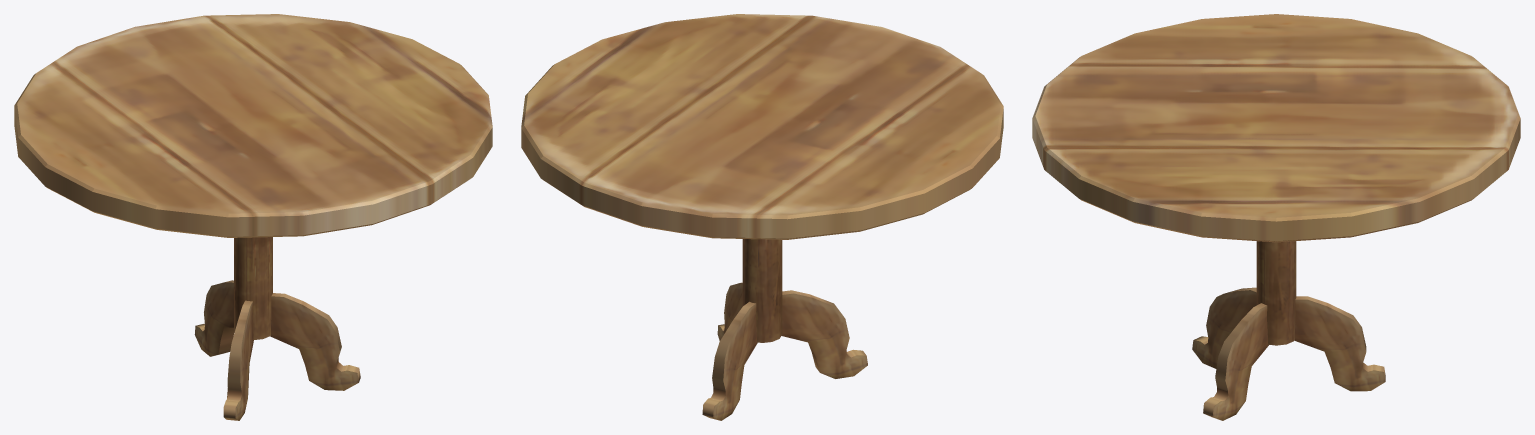
The model's file is CountryRoundTable_HD.fbx.
3 views of the same model, side by side, from view 1: azimuth 30°, elevation 25°; view 2: azimuth 150°, elevation 25°; view 3: azimuth 270°, elevation 25° (orthographic).
Visible parts, largest first — view 1: CountryRoundTable; view 2: CountryRoundTable; view 3: CountryRoundTable.
Boxes of the visible parts, <box> form: CountryRoundTable: <box>14,14,492,420</box>; CountryRoundTable: <box>521,14,1003,420</box>; CountryRoundTable: <box>1032,14,1520,420</box>.
Bounding box in the file's own units: 0.9835 × 0.6049 × 0.9835.
